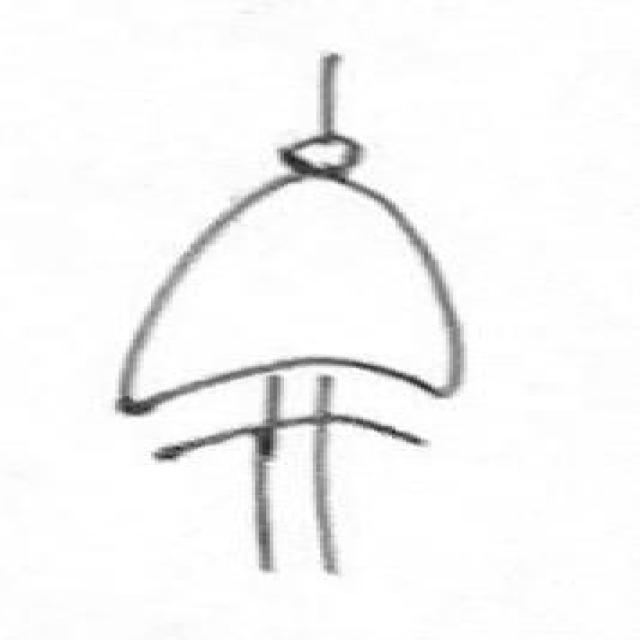XNOR: (75, 114, 522, 463)
